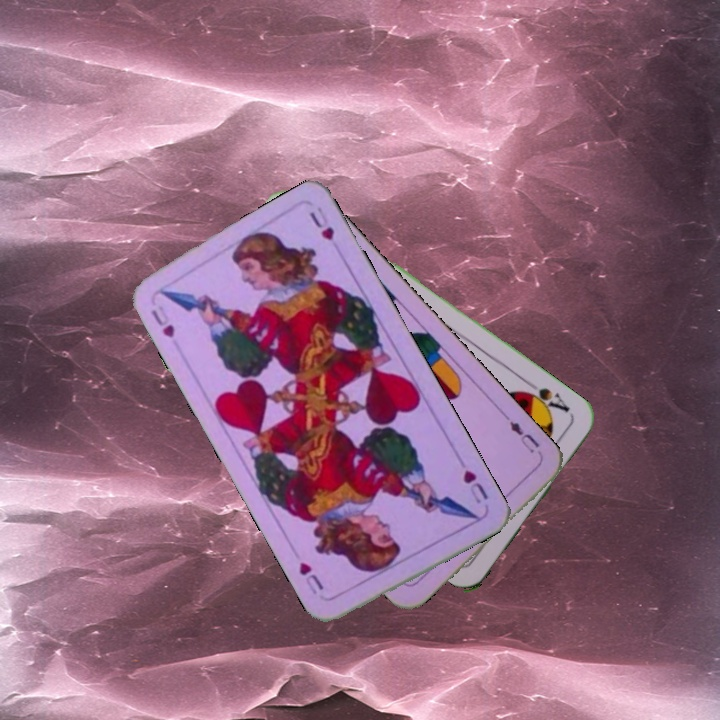EU: (501, 412, 542, 456)
HU: (459, 466, 491, 506), (146, 301, 177, 341)
SA: (517, 377, 573, 417)
